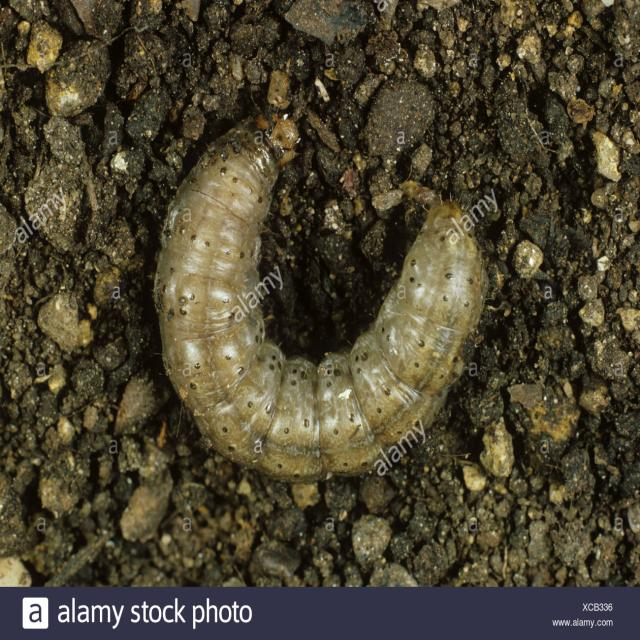Cutworm: (167, 116, 488, 478)
